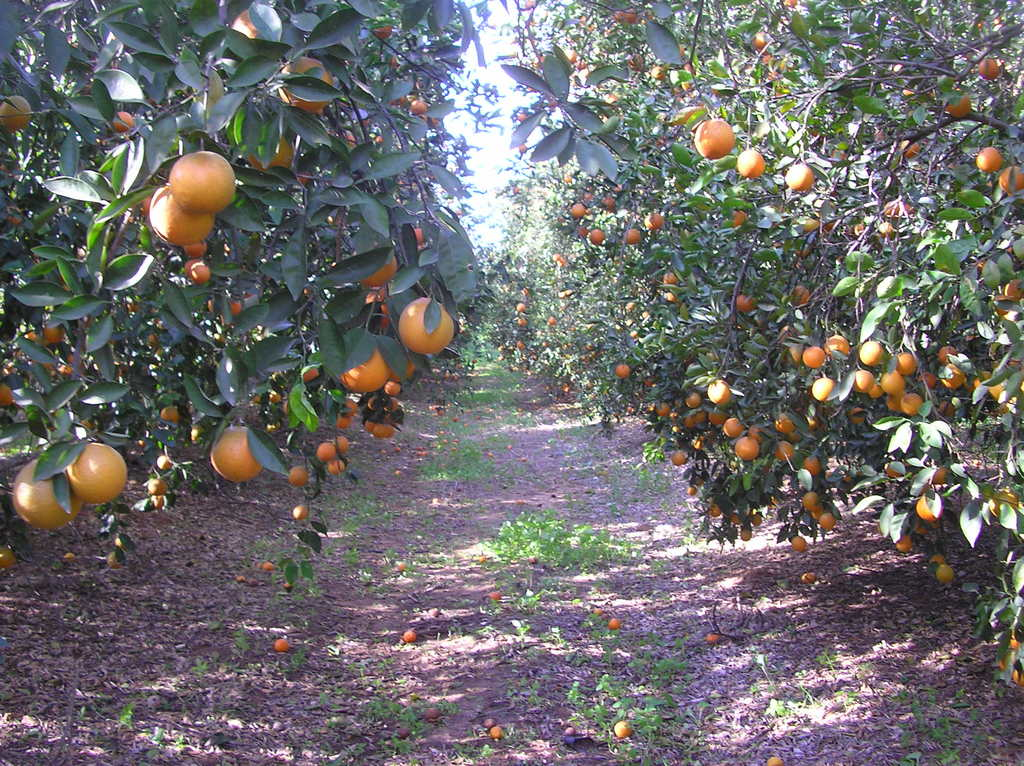Ripe: (54, 429, 129, 503), (378, 289, 460, 353), (10, 456, 70, 524), (170, 159, 232, 212), (214, 417, 265, 481), (142, 188, 198, 243), (696, 113, 747, 156), (180, 254, 224, 282), (858, 334, 890, 372), (732, 152, 766, 186), (802, 374, 838, 406), (972, 49, 1008, 81), (786, 159, 815, 195), (843, 362, 870, 400), (993, 269, 1023, 303), (894, 392, 921, 429), (893, 345, 921, 380), (780, 531, 818, 555), (945, 92, 977, 120), (972, 143, 1000, 175), (794, 484, 819, 516), (807, 500, 829, 536), (829, 334, 858, 361), (996, 164, 1023, 192), (637, 210, 664, 234), (796, 457, 818, 484), (942, 358, 964, 385), (593, 219, 613, 246), (735, 436, 760, 457), (806, 341, 827, 366), (883, 369, 901, 397), (776, 416, 799, 436), (776, 437, 792, 465), (624, 223, 645, 243), (941, 341, 957, 362), (724, 416, 735, 440)
